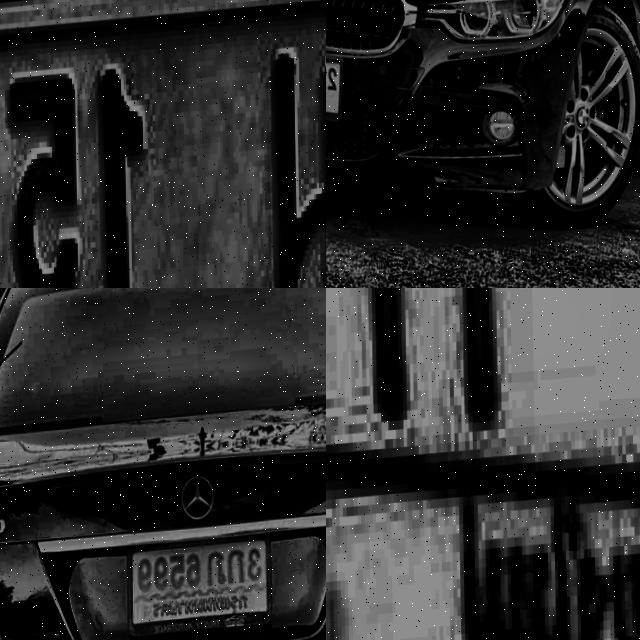license-plate: (326, 288, 640, 640), (0, 0, 326, 288), (125, 536, 274, 640), (326, 40, 347, 132)
